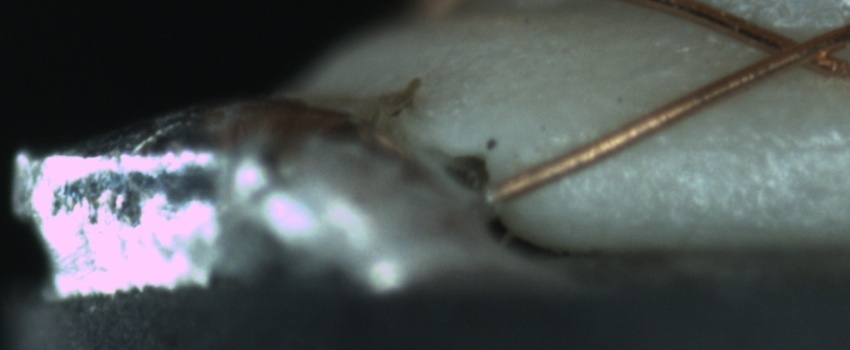CL: (745, 20, 842, 79)
DL: (563, 114, 848, 176)
